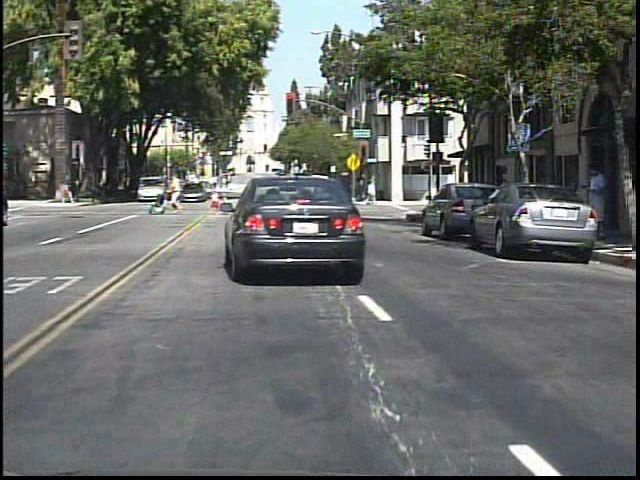person: (584, 159, 615, 244), (172, 172, 193, 219), (62, 174, 79, 207), (108, 174, 109, 204)
